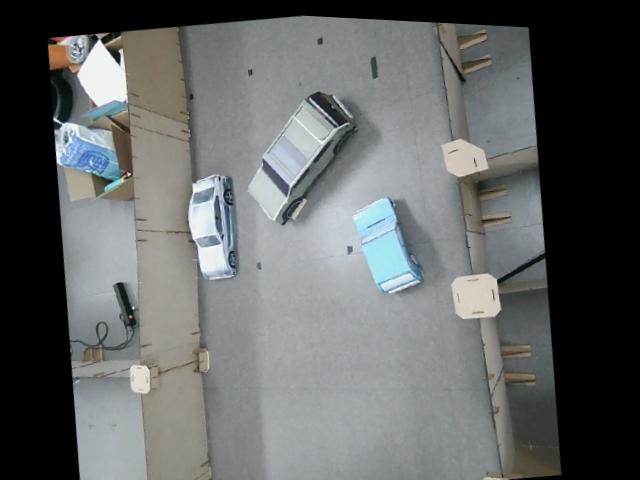car: (228, 81, 373, 237), (344, 189, 434, 304), (174, 168, 246, 287)
